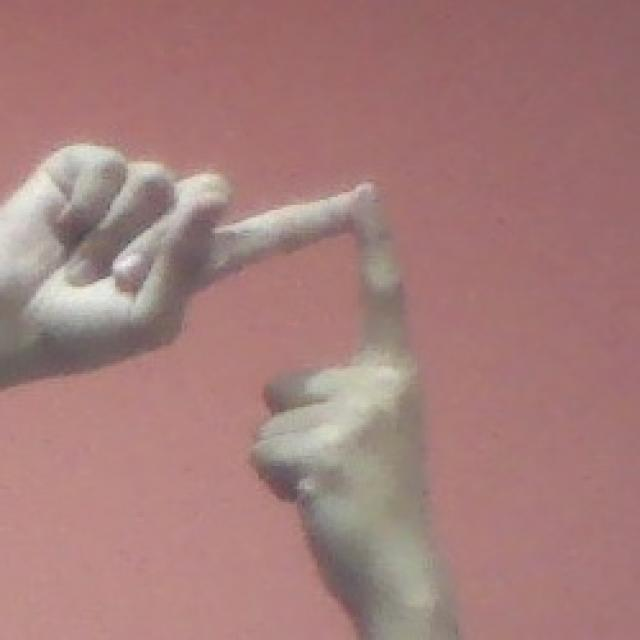Alphabet-E: (0, 143, 454, 640)
